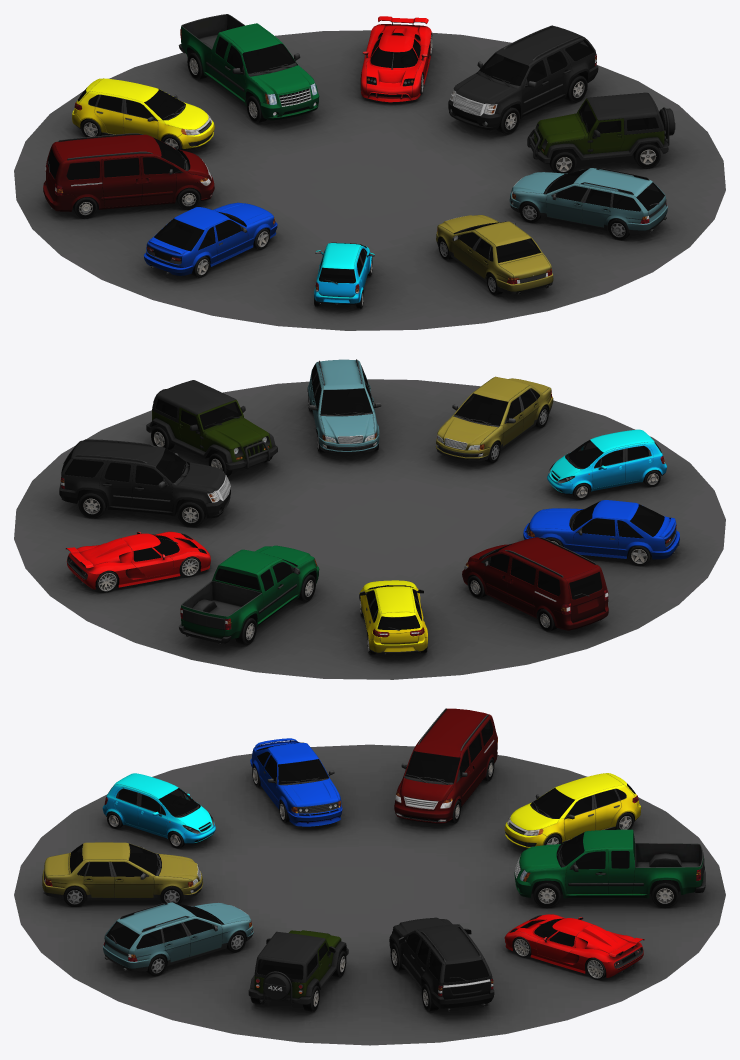
Rendered from passenger-pack.glb.
3 renders of one model, top to bottom at view 1: azimuth 30°, elevation 25°; view 2: azimuth 150°, elevation 25°; view 3: azimuth 270°, elevation 25°, orthographic.
Bounding box in the file's own units: 19.27 × 1.76 × 19.27.
22 materials, 22 textured.
